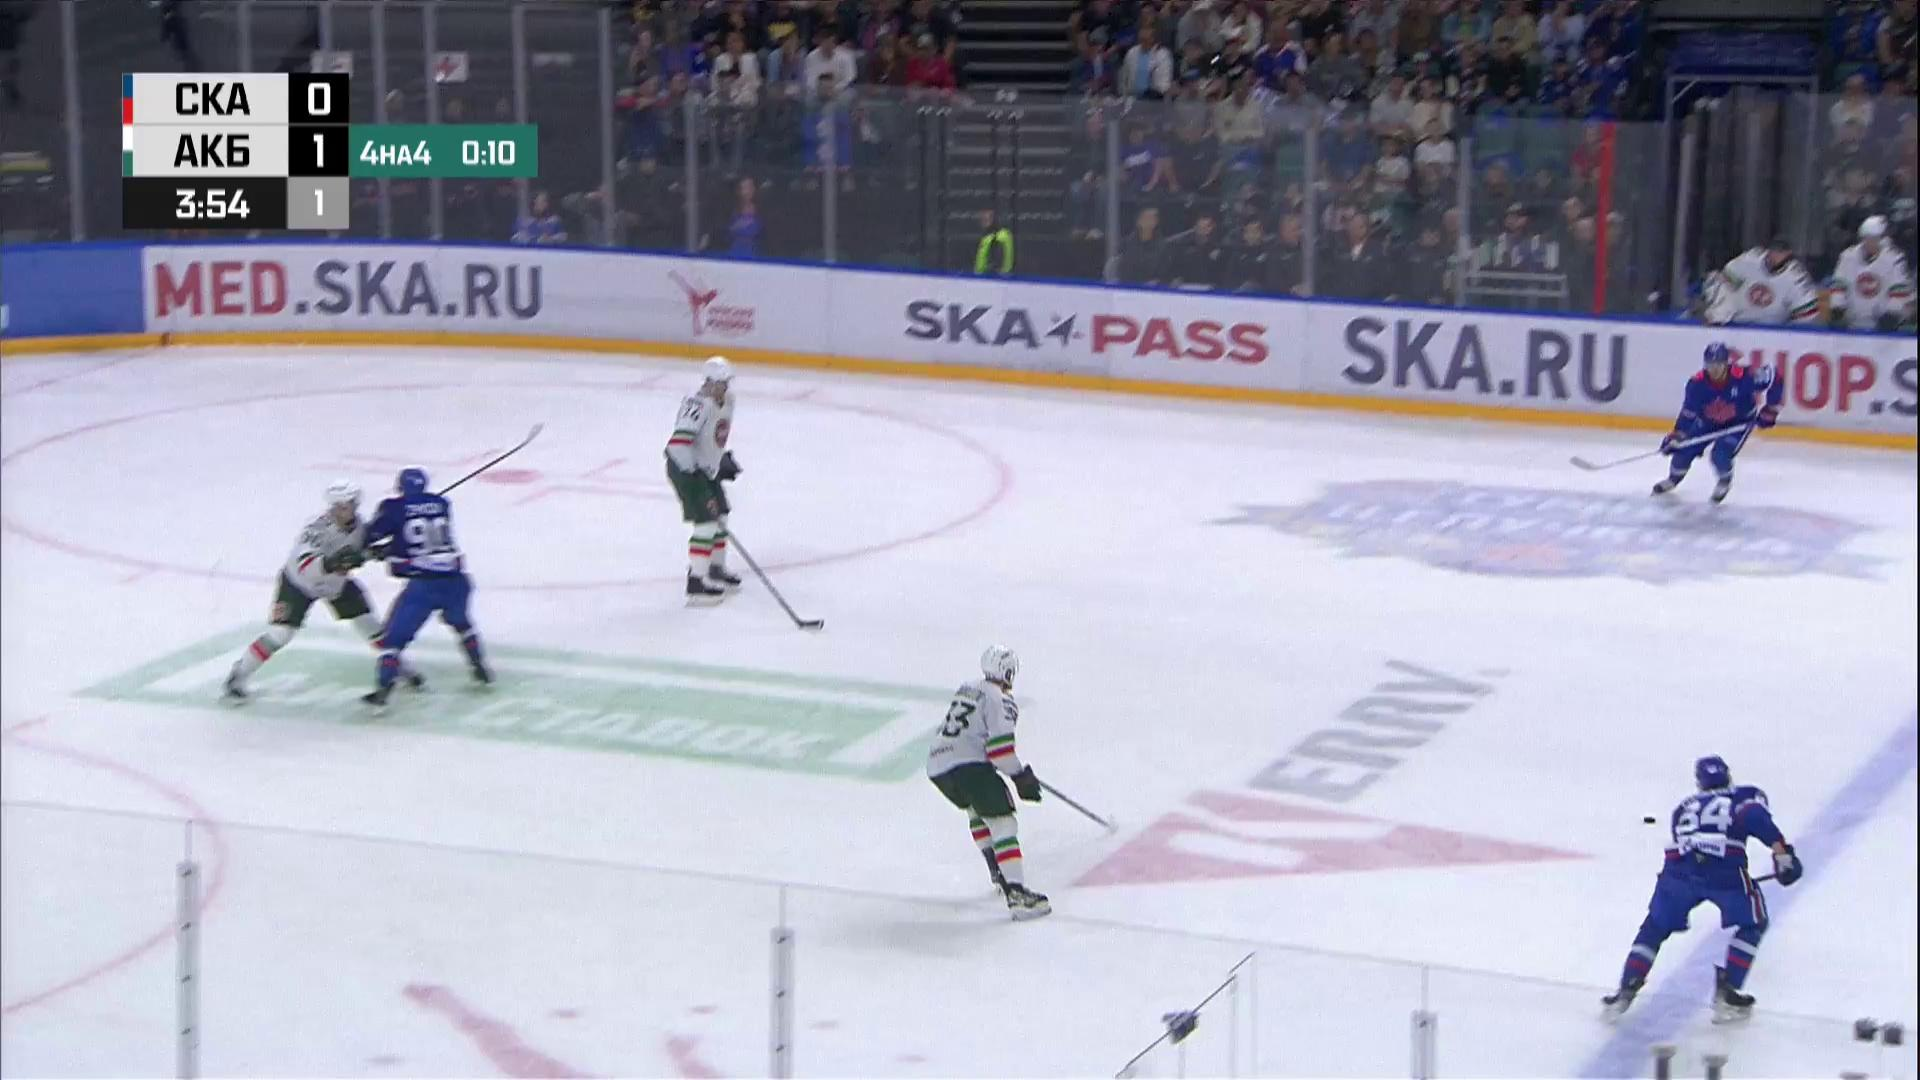ball: (1643, 816, 1656, 824)
